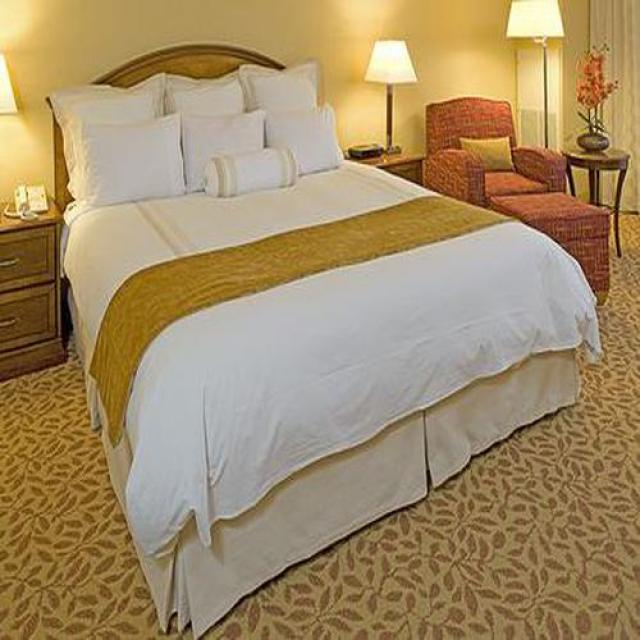bed: (49, 47, 603, 637)
